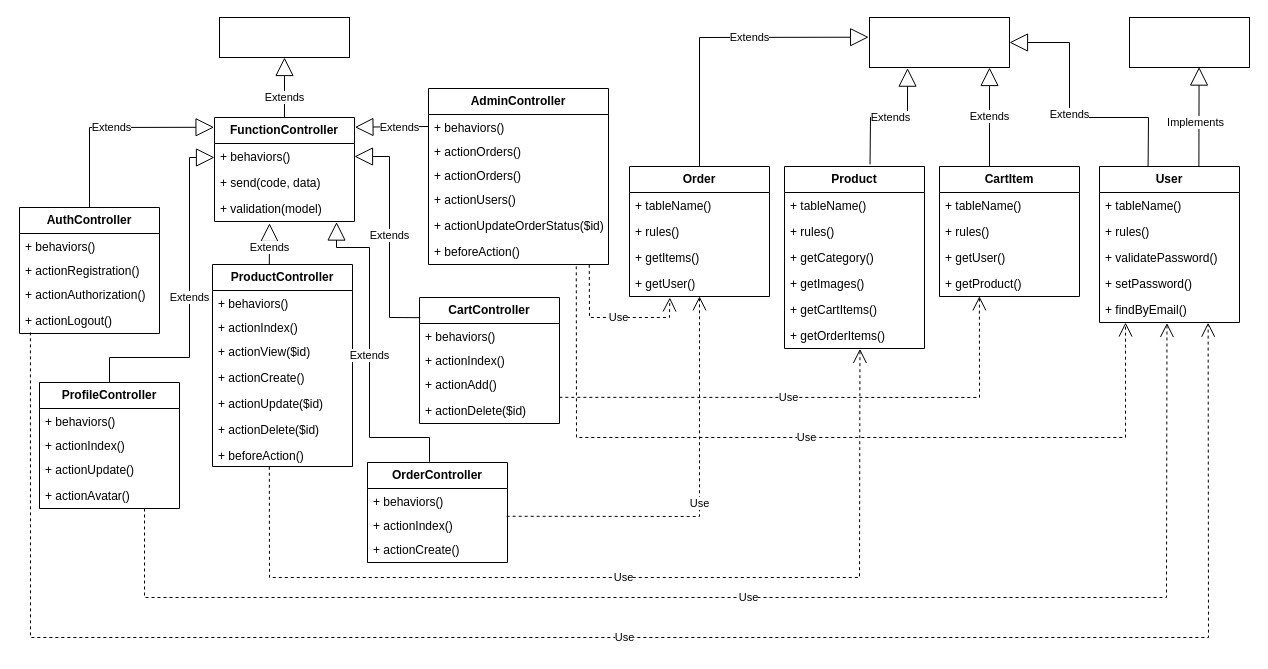
This 1268x669 diagram has some shape labels left out. Here are the shapes that lost their labels. From the top down, the centre of each, then its label:
[284,37]: yii\rest\Controller
[939,42]: yii\db\ActiveRecord
[1189,42]: «interface» IdentityInterface
